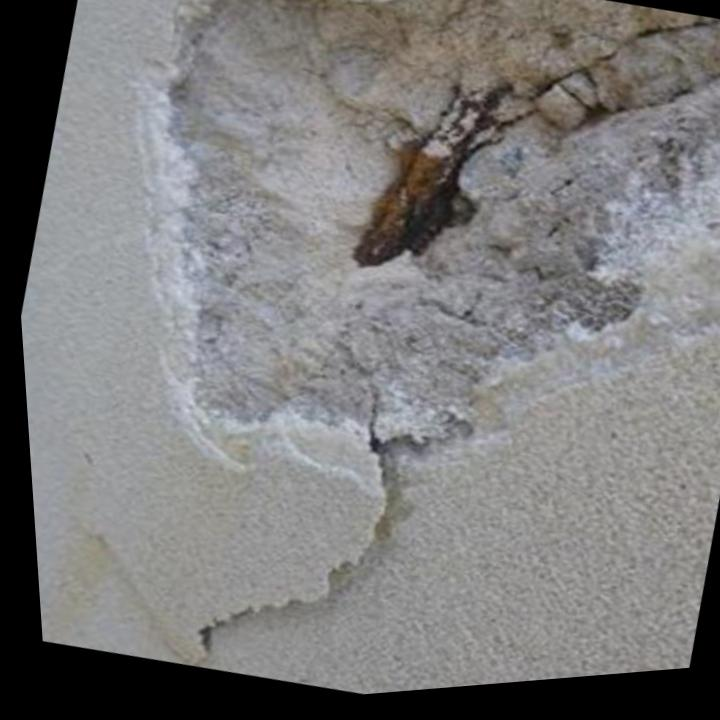crack: (186, 430, 464, 670)
damage: (127, 0, 720, 442)
